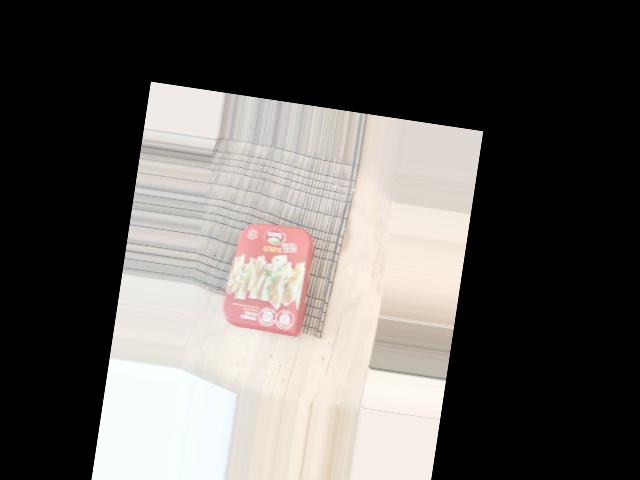cheese: (214, 210, 304, 337)
